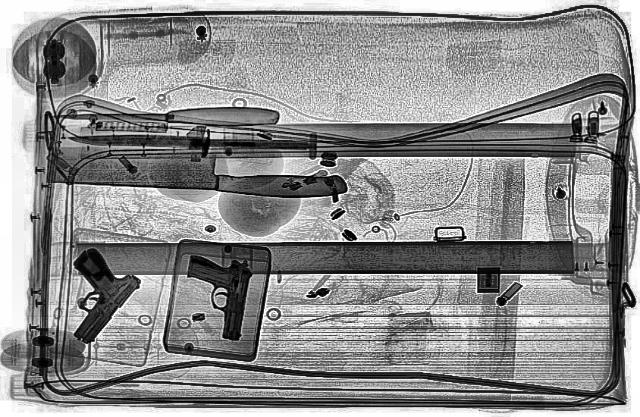Gun: (19, 244, 153, 342), (175, 254, 253, 340)
Knife: (41, 142, 351, 198), (66, 130, 310, 152), (55, 105, 279, 125)
